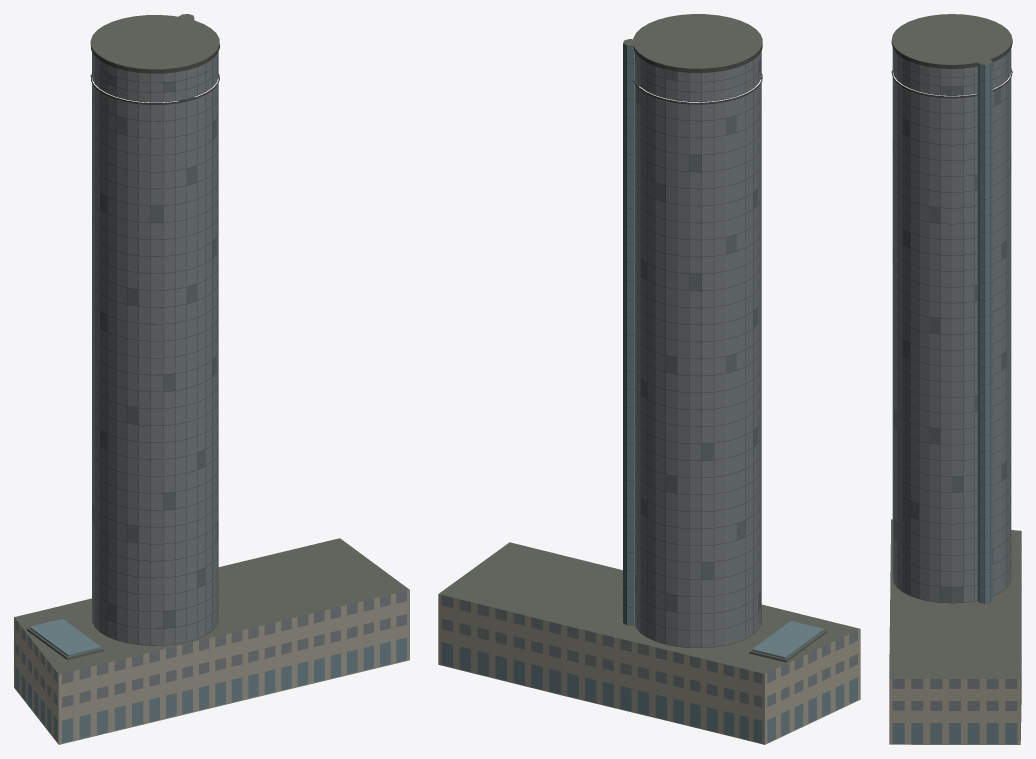
Rendered from westin-peachtree-plaza-far.glb.
3 renders of one model, left to right at view 1: azimuth 30°, elevation 25°; view 2: azimuth 150°, elevation 25°; view 3: azimuth 270°, elevation 25°, orthographic. The views are drawn at different scales.
Parts seen in each view (by area): view 1: westin-peachtree-plaza-0-glass, westin-peachtree-plaza-0-roof, westin-peachtree-plaza-0-stone, westin-peachtree-plaza-0-frame, westin-peachtree-plaza-0-glassShade, westin-peachtree-plaza-0-elevatorGlass, westin-peachtree-plaza-0-glow; view 2: westin-peachtree-plaza-0-glass, westin-peachtree-plaza-0-glassShade, westin-peachtree-plaza-0-roof, westin-peachtree-plaza-0-stone, westin-peachtree-plaza-0-elevatorGlass, westin-peachtree-plaza-0-frame, westin-peachtree-plaza-0-glow; view 3: westin-peachtree-plaza-0-glass, westin-peachtree-plaza-0-roof, westin-peachtree-plaza-0-elevatorGlass, westin-peachtree-plaza-0-frame, westin-peachtree-plaza-0-stone, westin-peachtree-plaza-0-glow, westin-peachtree-plaza-0-glassShade.
Boxes of the visible parts, <box> form: westin-peachtree-plaza-0-glass: <box>100,52,218,645</box>; westin-peachtree-plaza-0-roof: <box>14,14,409,674</box>; westin-peachtree-plaza-0-stone: <box>14,590,409,744</box>; westin-peachtree-plaza-0-frame: <box>90,41,219,645</box>; westin-peachtree-plaza-0-glassShade: <box>15,52,406,707</box>; westin-peachtree-plaza-0-elevatorGlass: <box>15,18,406,743</box>; westin-peachtree-plaza-0-glow: <box>92,74,218,628</box>; westin-peachtree-plaza-0-glass: <box>635,51,761,647</box>; westin-peachtree-plaza-0-glassShade: <box>441,60,857,707</box>; westin-peachtree-plaza-0-roof: <box>439,14,859,673</box>; westin-peachtree-plaza-0-stone: <box>438,594,860,744</box>; westin-peachtree-plaza-0-elevatorGlass: <box>441,43,857,743</box>; westin-peachtree-plaza-0-frame: <box>623,43,762,647</box>; westin-peachtree-plaza-0-glow: <box>635,53,761,612</box>; westin-peachtree-plaza-0-glass: <box>892,48,1011,602</box>; westin-peachtree-plaza-0-roof: <box>889,14,1021,678</box>; westin-peachtree-plaza-0-elevatorGlass: <box>892,62,1021,744</box>; westin-peachtree-plaza-0-frame: <box>891,40,1012,603</box>; westin-peachtree-plaza-0-stone: <box>889,551,1021,744</box>; westin-peachtree-plaza-0-glow: <box>892,62,1011,602</box>; westin-peachtree-plaza-0-glassShade: <box>892,541,1021,710</box>.
Bounding box in the file's own units: 125 × 220 × 43.8.
